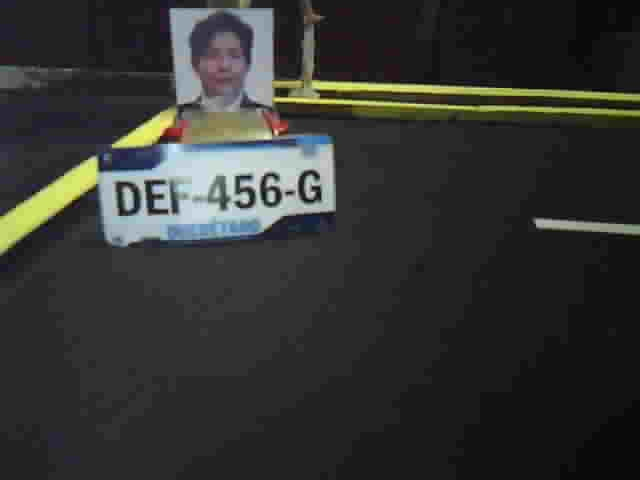PLACA: (94, 133, 339, 253)
ROSTRO: (177, 8, 271, 113)
